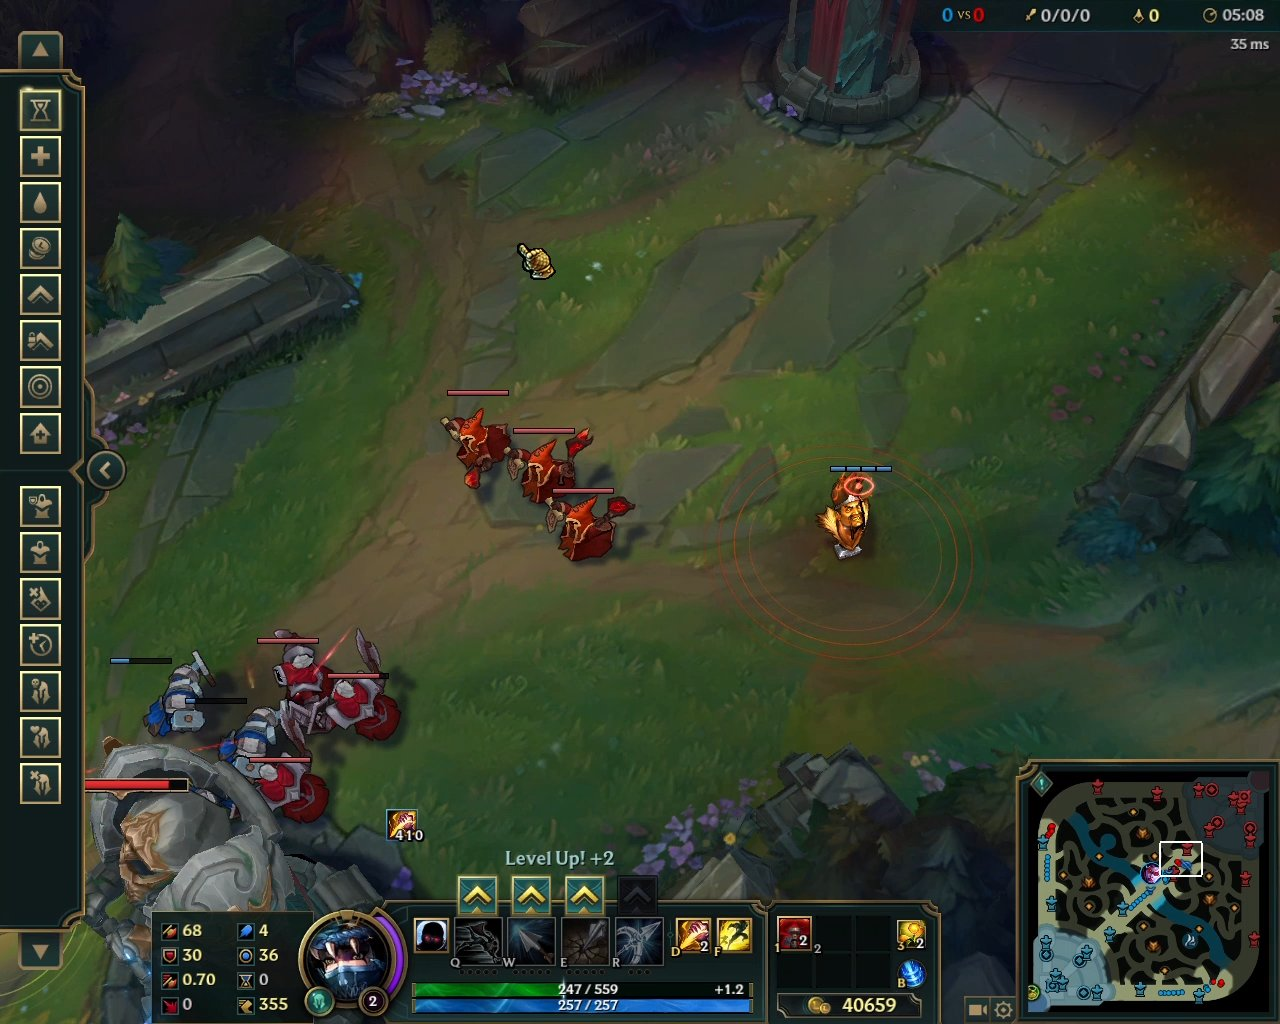EnemyMinion: (313, 626, 408, 744), (430, 391, 515, 496), (537, 488, 637, 564), (501, 428, 594, 508), (247, 746, 321, 827), (260, 629, 331, 712)
